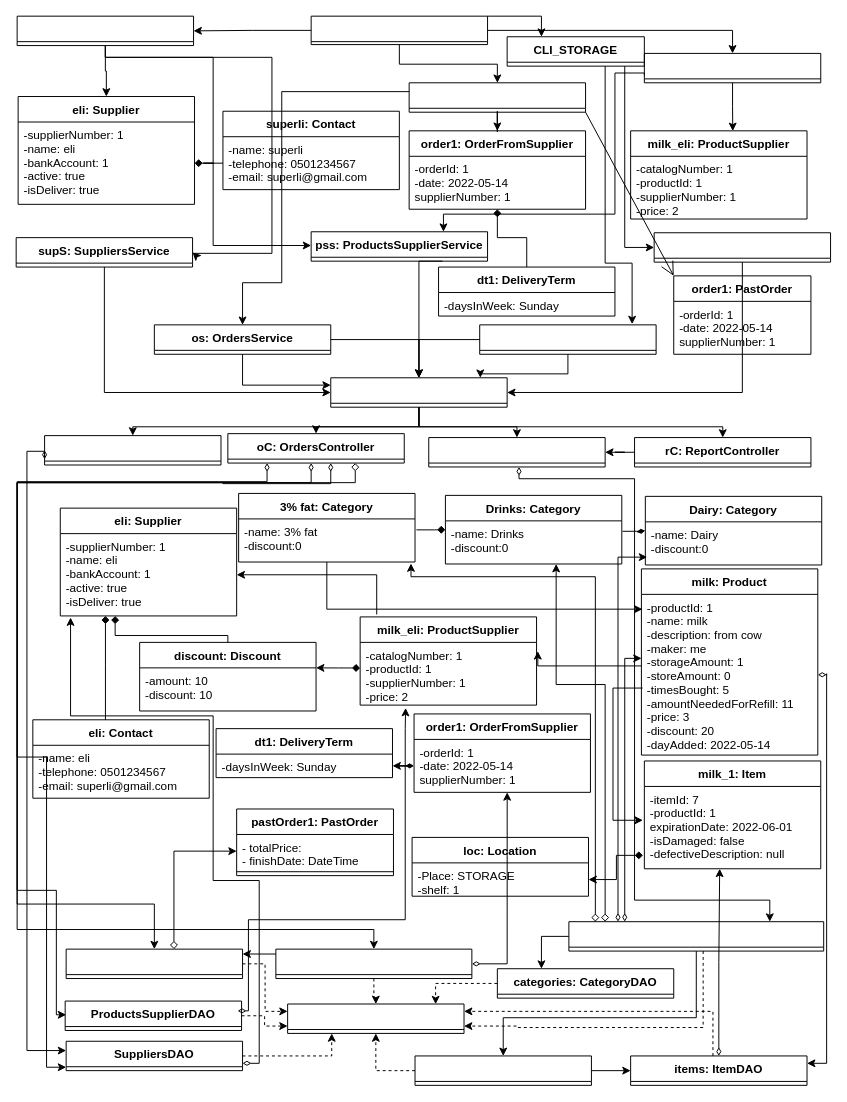
Some shapes in this 847 by 1102 pixel diagram are drawn without their labels. Here are the shapes that lost their labels. From the top down, the centre of each, then its label:
At pixel 105 30: "sm: SupplierManu".
At pixel 399 30: "manu: Manu".
At pixel 732 67: "pM: ProductManu".
At pixel 497 97: "oM: OrderManu".
At pixel 742 247: "rs: ReportService".
At pixel 567 339: "cs: CategoryService".
At pixel 418 392: "facade: Facade".
At pixel 132 450: "sC: SuppliersController".
At pixel 516 452: "cC: CategoryController".
At pixel 696 936: "catToProducts: CategoryToProductDAO".
At pixel 154 963: "PastOrdersSupplierDAO".
At pixel 373 963: "orders: OrdersFromSupplierDAO".
At pixel 375 1018: "Connect".
At pixel 502 1070: "products: ProductDAO".
